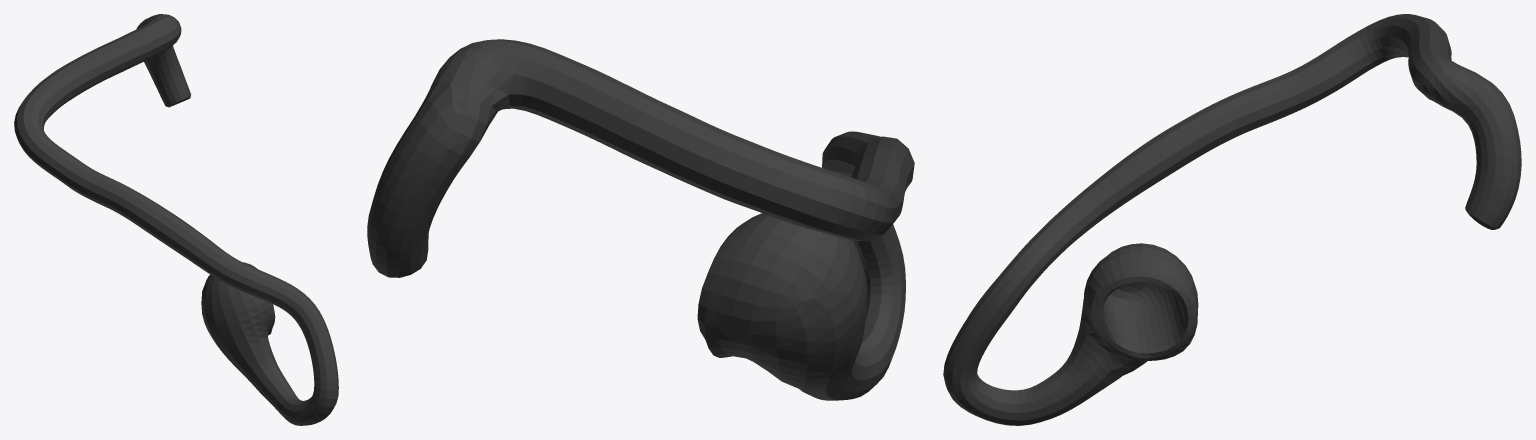
The model's file is Duodenum.glb.
The picture shows the model from 3 angles, left to right: view 1: azimuth 30°, elevation 25°; view 2: azimuth 150°, elevation 25°; view 3: azimuth 270°, elevation 25°; orthographic projection. The views are drawn at different scales.
Parts seen in each view (by area): view 1: Duodenum; view 2: Duodenum; view 3: Duodenum.
Part boxes in pixels (left/top/right/bottom): Duodenum: left=14, top=14, right=338, bottom=425; Duodenum: left=367, top=39, right=914, bottom=400; Duodenum: left=943, top=14, right=1521, bottom=425.
Size of the model in its own units: 0.3535 by 0.4541 by 0.6239.
Materials: 1 (1 with a texture image).
